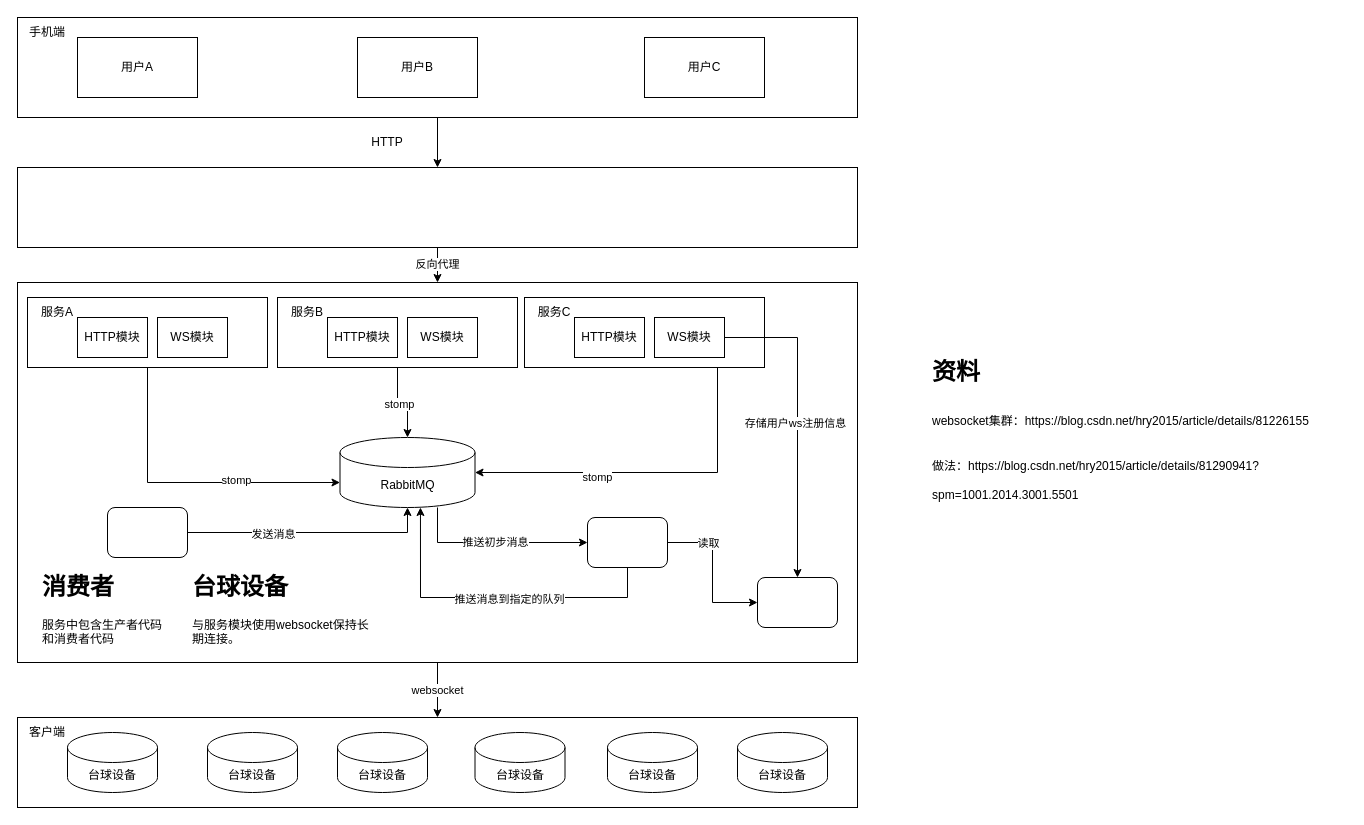
The diagram is 1364 pixels wide and 825 high, and some of its shapes have lost their labels. The shapes that lost their labels are listed below. From the top down, each one's box as (x1, y1, x2, y2) in pixels, then its label:
(16, 166, 858, 248): Nginx
(106, 506, 188, 558): 消息生产者
(586, 516, 668, 568): dispatch
(756, 576, 838, 628): Redis
